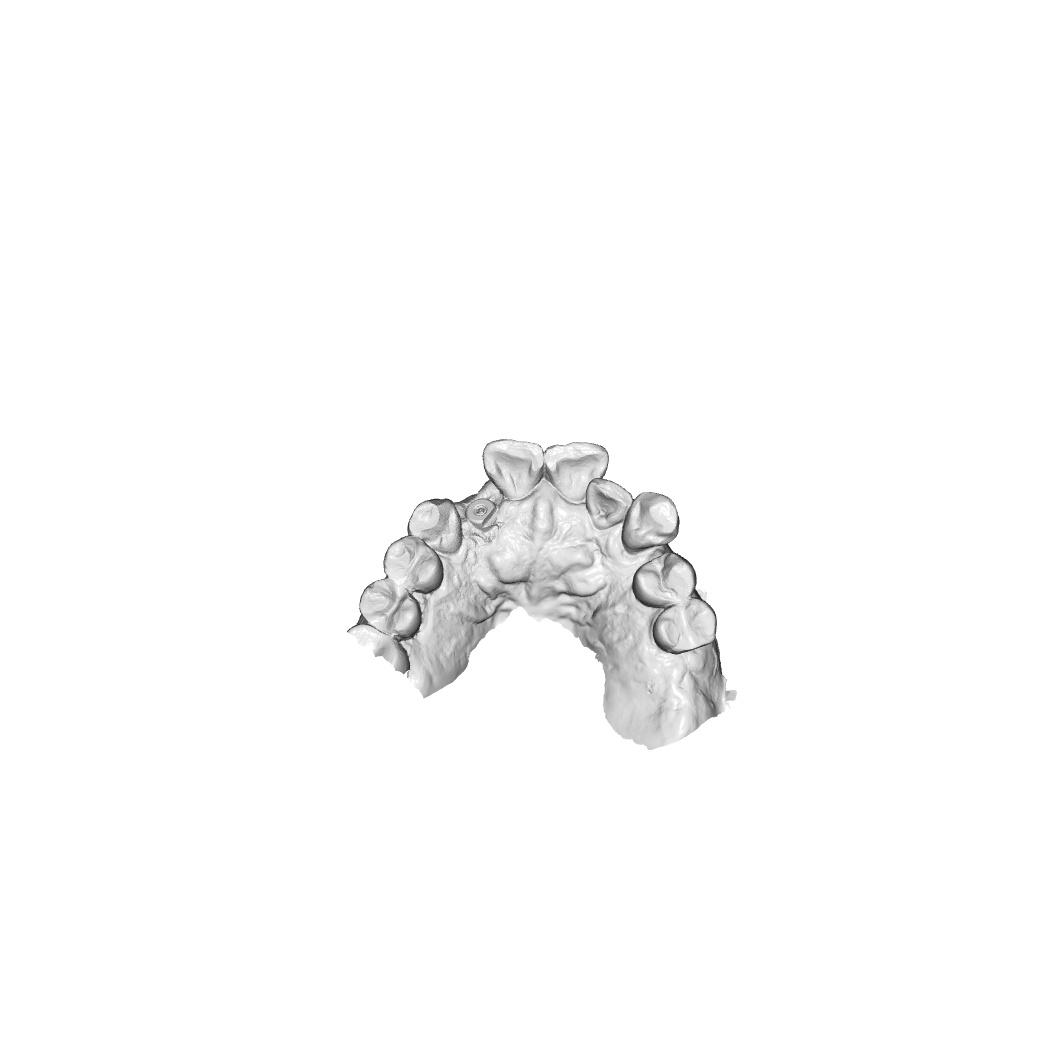canine: (621, 489, 682, 555), (405, 497, 465, 556)
implant: (465, 498, 497, 531)
incisor: (543, 441, 610, 503), (481, 438, 544, 502), (584, 475, 634, 532)
premolar: (357, 578, 425, 641), (652, 596, 718, 656), (631, 551, 698, 609), (382, 534, 445, 595)
